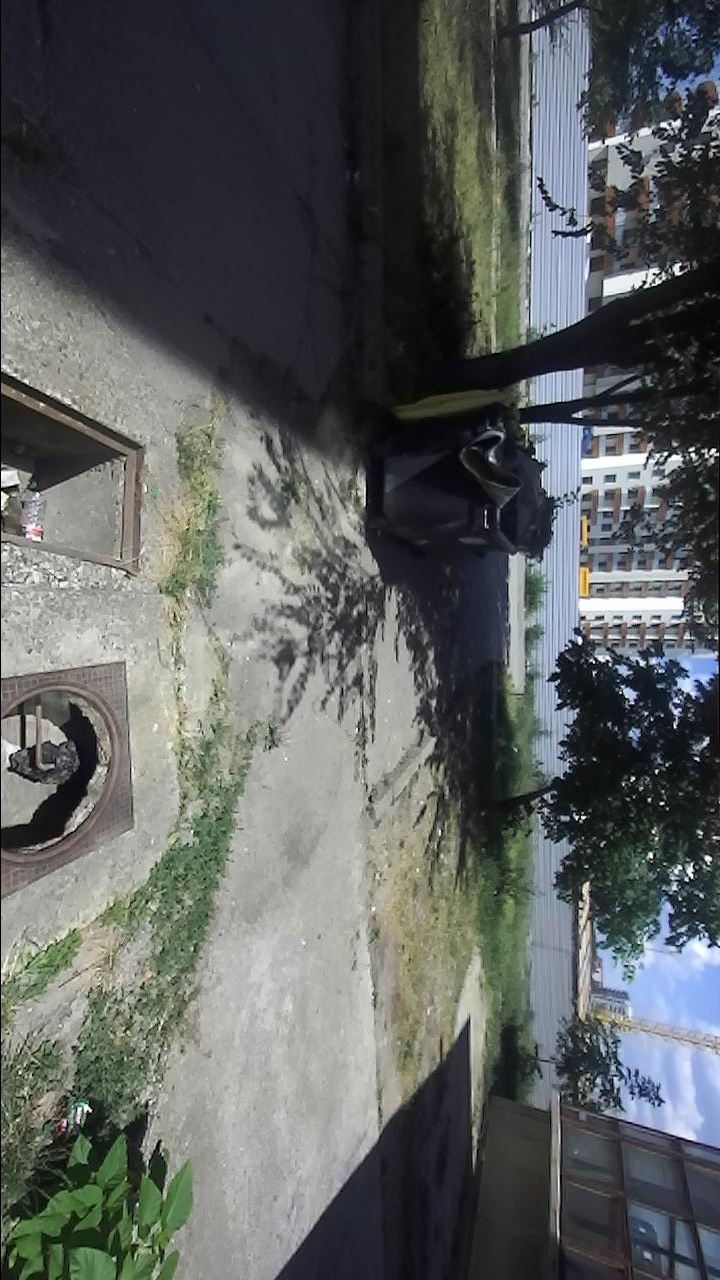drain: (0, 370, 147, 578), (1, 684, 121, 881)
